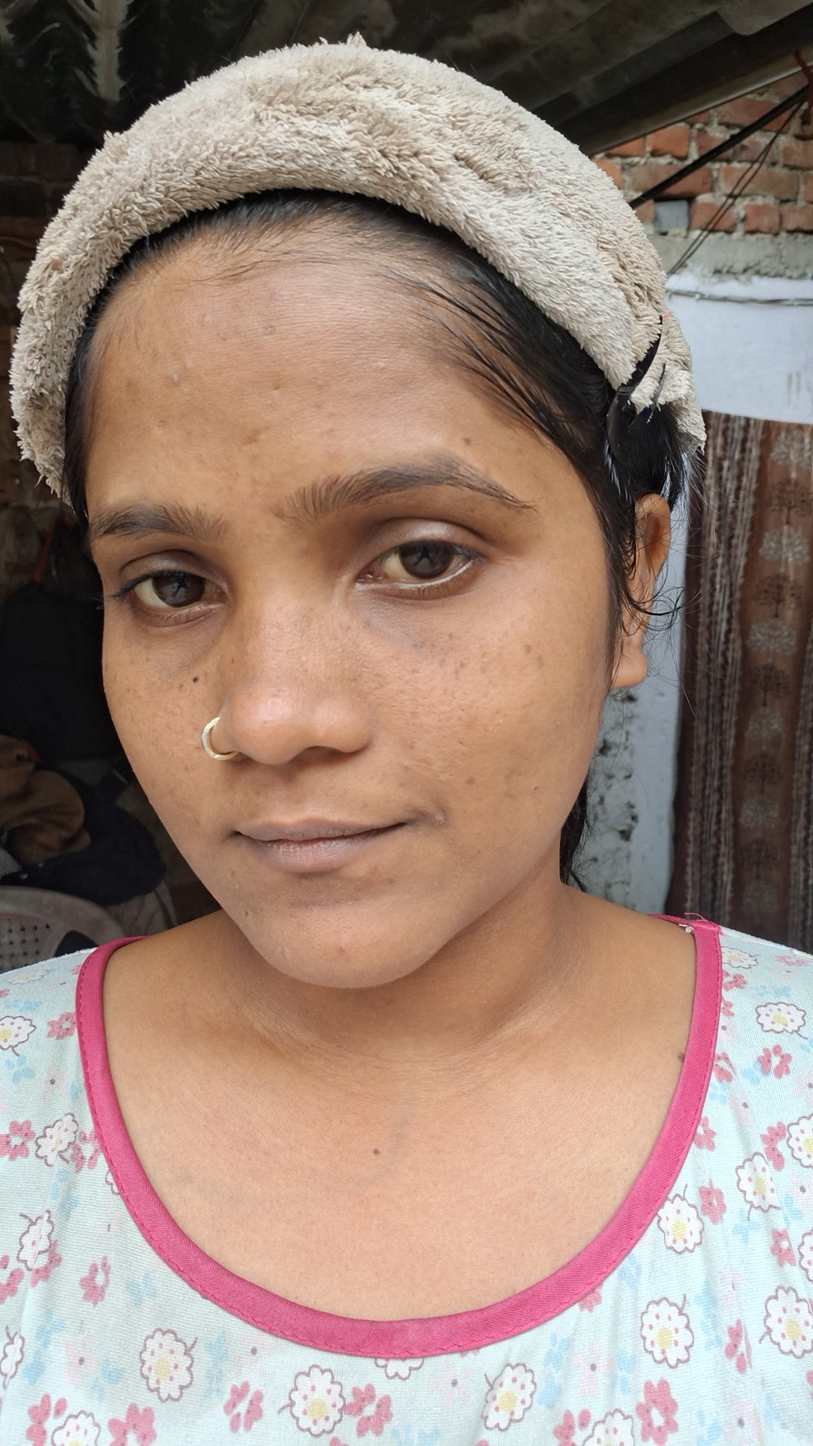macrocomedone: (165, 368, 192, 391), (367, 356, 393, 376)
